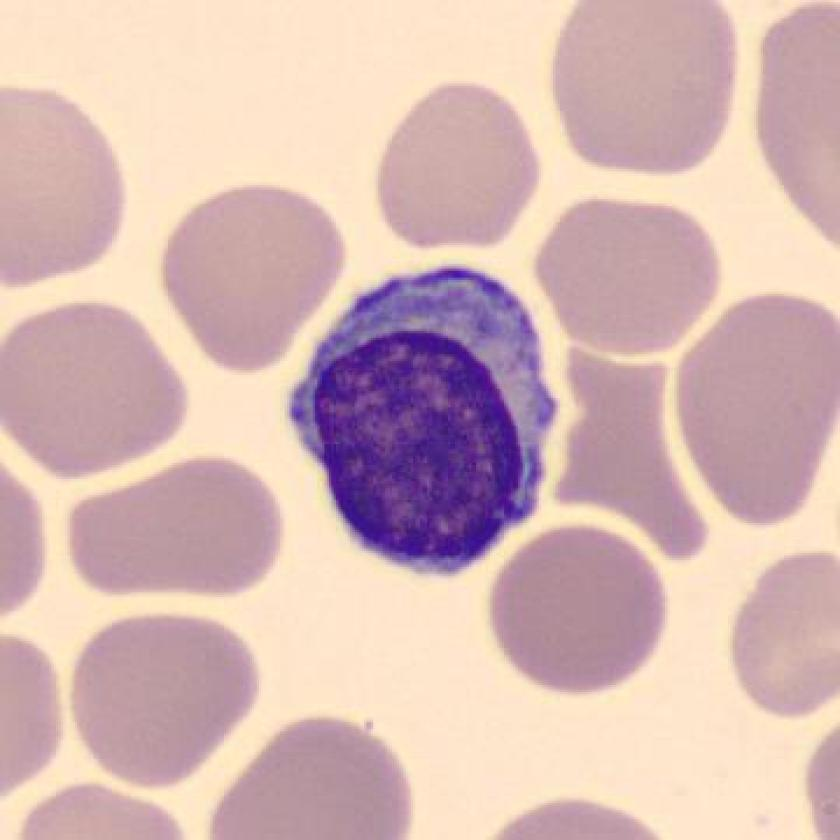lymphocyte: (274, 253, 584, 598)
